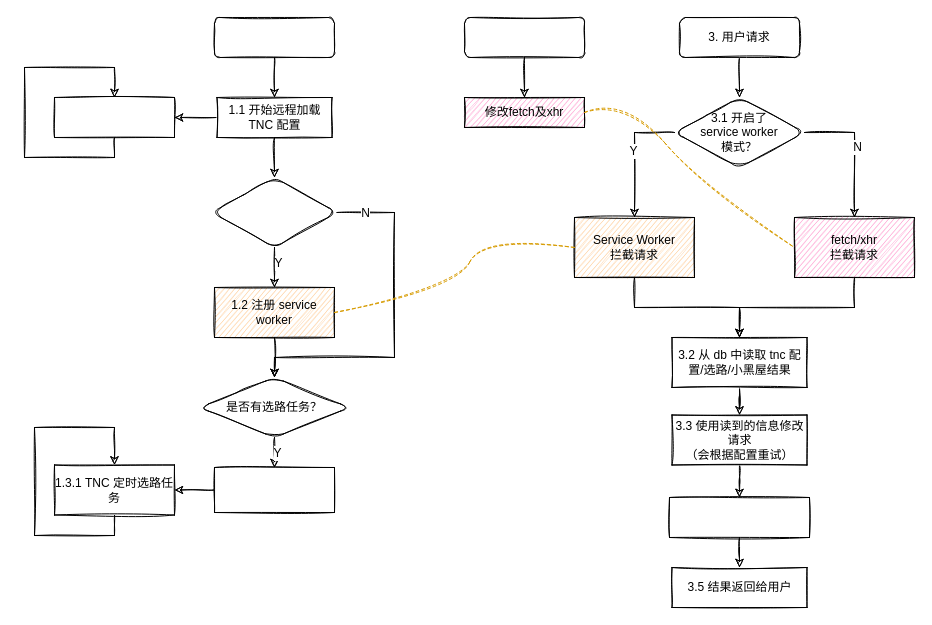
This 932x625 diagram has some shape labels left out. Here are the shapes that lost their labels. From the top down, the box of each, then its label:
(214, 16, 334, 58): 1. TNC JS SDK 启动
(464, 16, 584, 58): 2. Proxy 模式启动
(54, 96, 174, 138): 1.1.1 TNC 配置定时轮询任务
(211, 176, 337, 248): 是否使用 service worker 模式？
(214, 466, 334, 512): 1.3 开始选路任务
(668, 496, 810, 538): 3.4 将请求结果保存
